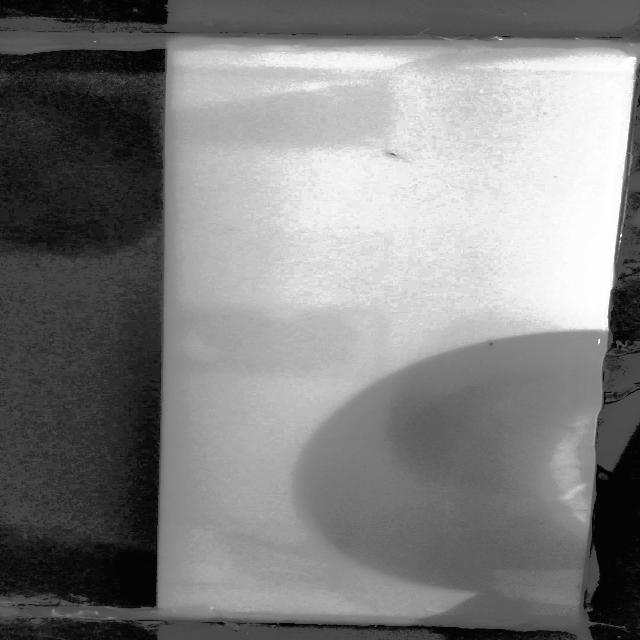shrimp: (374, 147, 410, 161), (481, 338, 501, 349)
